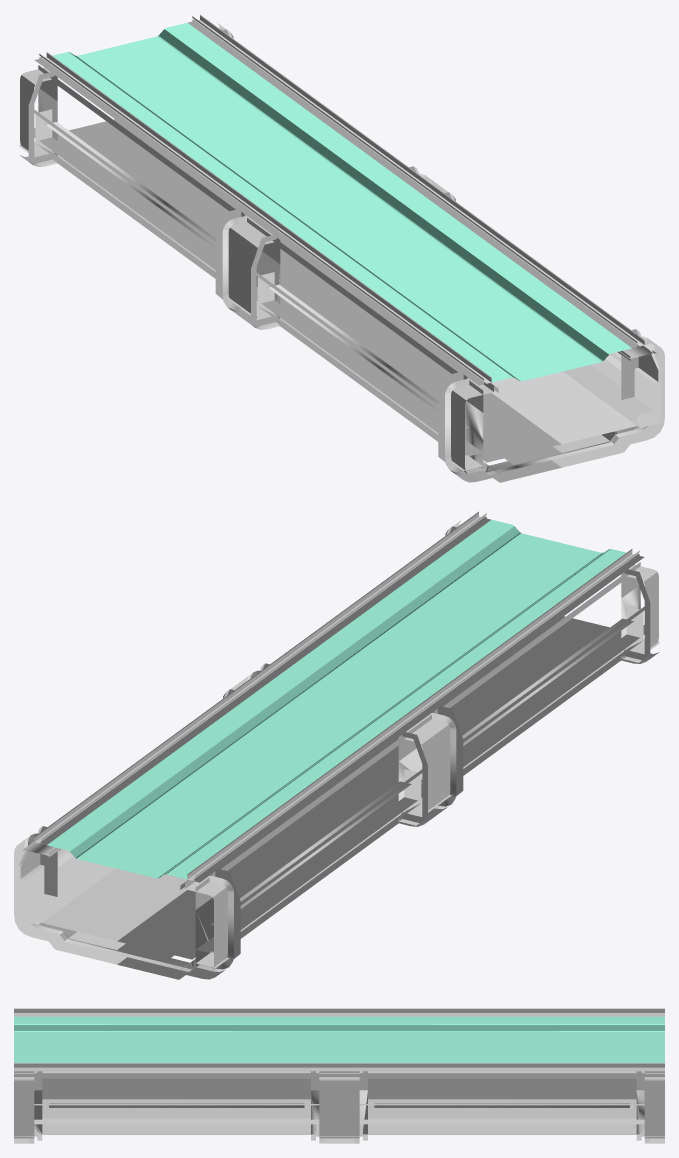
File: dome_bridge_connection_64m_a.glb
3 renders of one model, top to bottom at view 1: azimuth 30°, elevation 25°; view 2: azimuth 150°, elevation 25°; view 3: azimuth 270°, elevation 25°, orthographic. The views are drawn at different scales.
Size of the model in its own units: 17.33 by 8.54 by 64.
